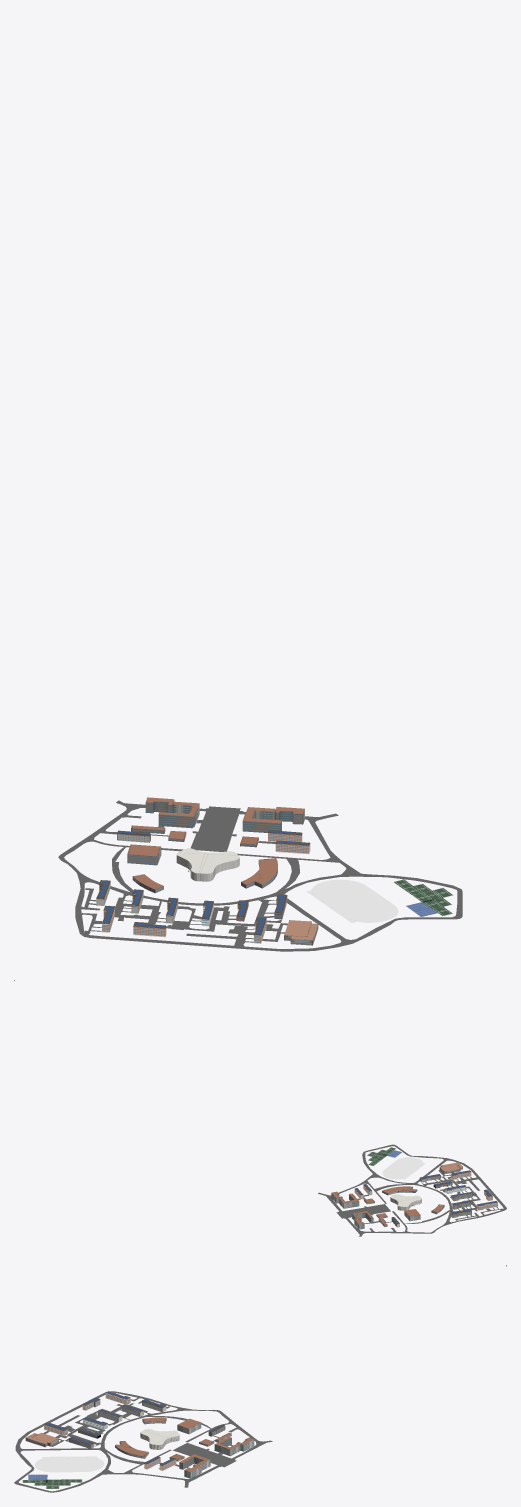
File: hnjcxy.glb
The picture shows the model from 3 angles, top to bottom: view 1: azimuth 30°, elevation 25°; view 2: azimuth 150°, elevation 25°; view 3: azimuth 270°, elevation 25°; orthographic projection. The views are drawn at different scales.
Visible parts, largest first — view 1: 47, 27, 11, 52, 46; view 2: 47, 27, 11, 46; view 3: 47, 27, 11, 46, 52, 44, 45, 24, 22, 49, 12, 29.
Part boxes in pixels (<box>): 47: <box>75,866,380,951</box>; 27: <box>318,882,391,920</box>; 11: <box>176,848,239,881</box>; 52: <box>192,806,242,851</box>; 46: <box>58,847,272,907</box>; 47: <box>369,1156,506,1217</box>; 27: <box>385,1158,420,1177</box>; 11: <box>390,1194,421,1210</box>; 46: <box>405,1184,478,1233</box>; 47: <box>15,1391,148,1475</box>; 27: <box>38,1458,100,1470</box>; 11: <box>140,1429,179,1449</box>; 46: <box>100,1398,224,1446</box>; 52: <box>177,1445,236,1467</box>; 44: <box>185,1415,272,1458</box>; 45: <box>115,1449,219,1487</box>; 24: <box>179,1454,210,1470</box>; 22: <box>214,1437,240,1456</box>; 49: <box>14,1461,100,1492</box>; 12: <box>177,1418,201,1434</box>; 29: <box>34,1458,104,1472</box>.
Size of the model in its own units: 1332 by 1003 by 1358.
46 materials, 39 textured.
